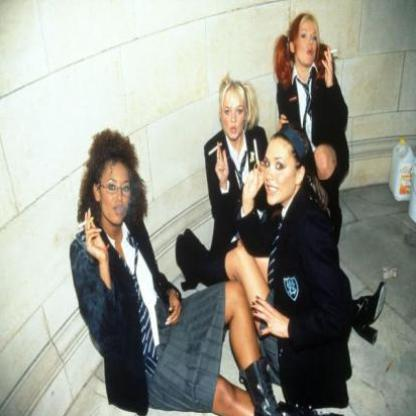cigarette: (77, 214, 95, 229), (207, 142, 223, 158), (326, 46, 339, 56)
person: (71, 130, 192, 402), (256, 130, 349, 400), (274, 8, 346, 151), (207, 77, 268, 171)
